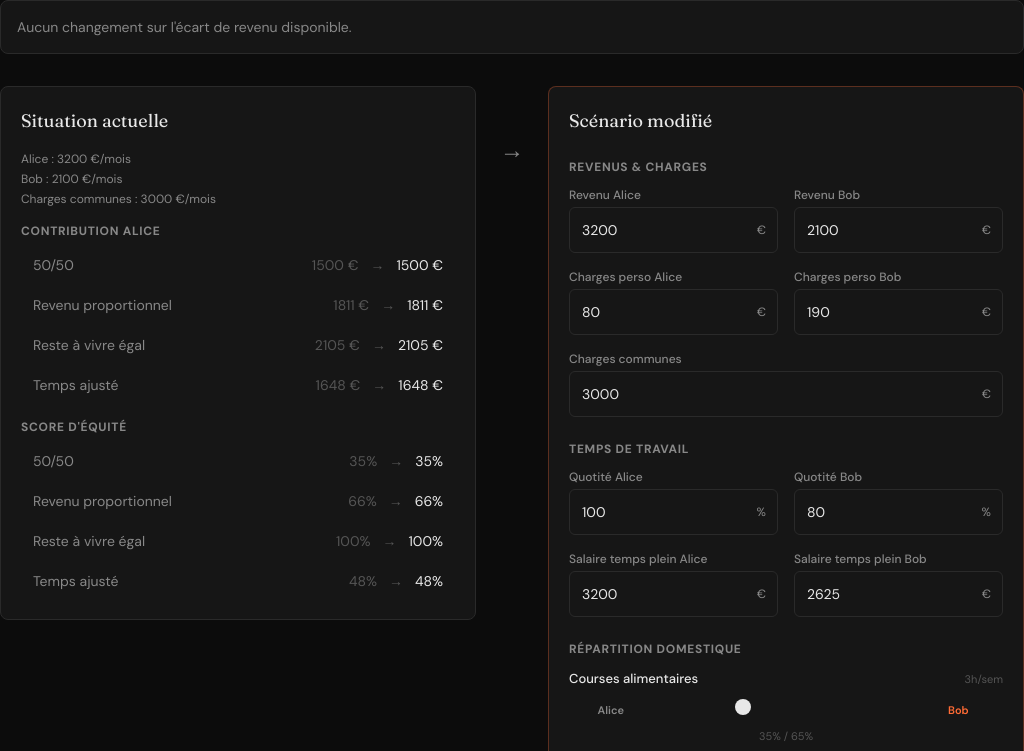
Scenario: WhatIfShell › editing a field updates the summary
The image size is (1024, 751).
// Change P1 income
Replace the text in the field labelled "Revenu Alice" with "4000": point(674, 230) [569,207,778,253]
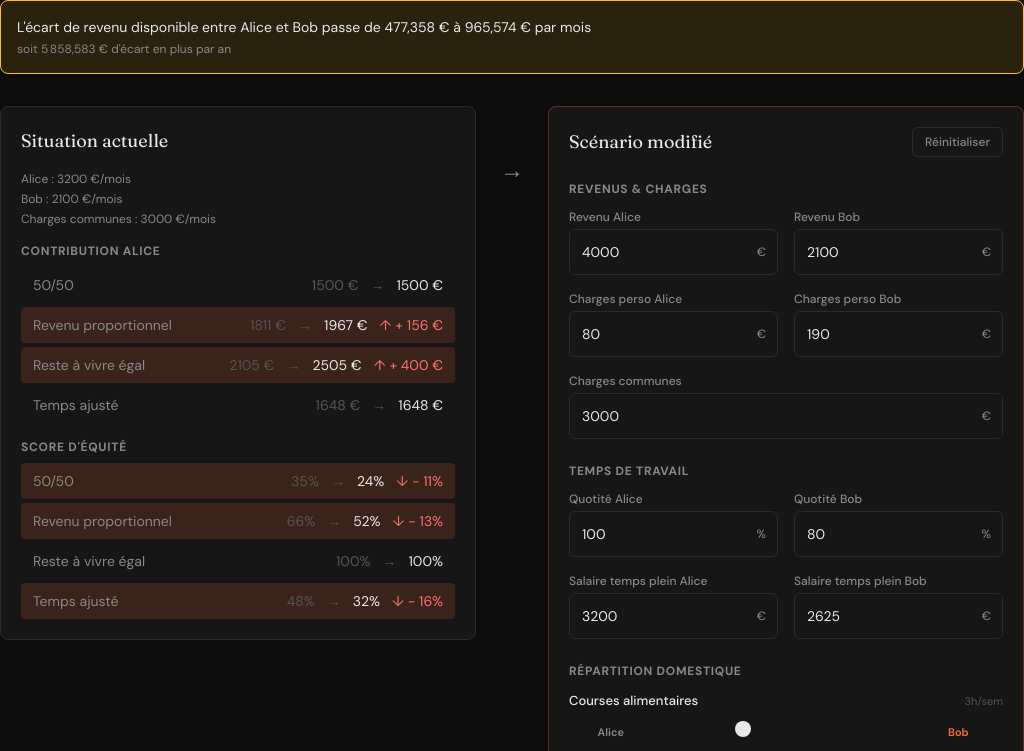
Result: the text "Aucun changement" is gone
